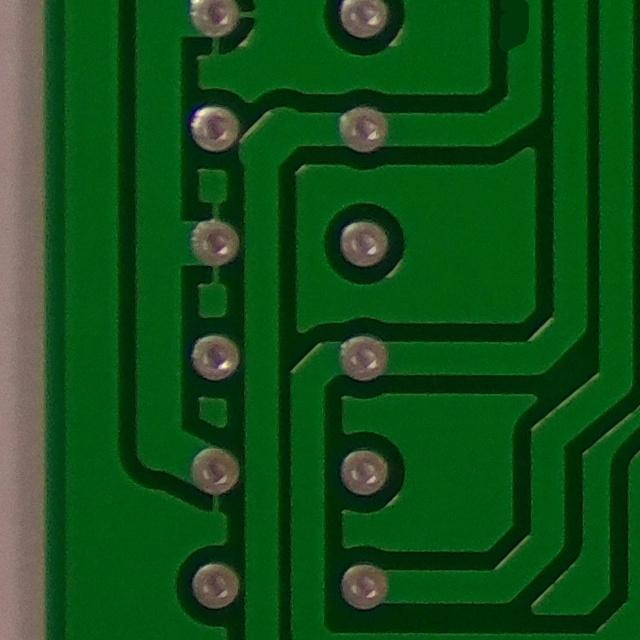mouse_bite: (488, 0, 542, 66)
